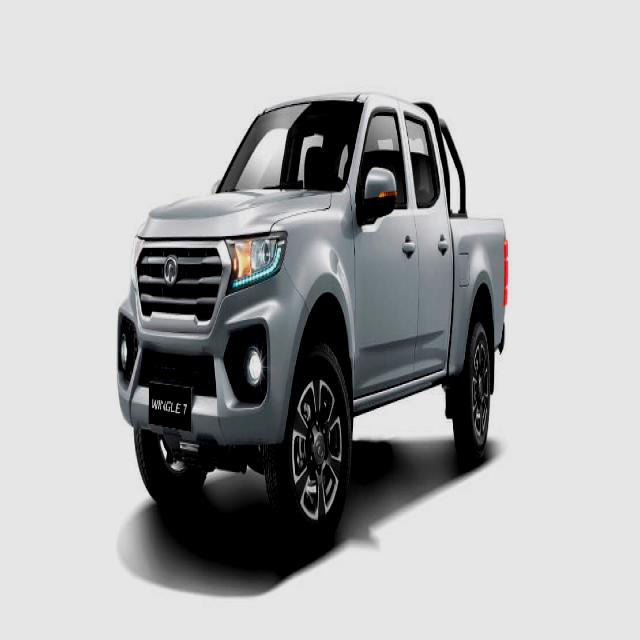CMT: (117, 86, 511, 546)
